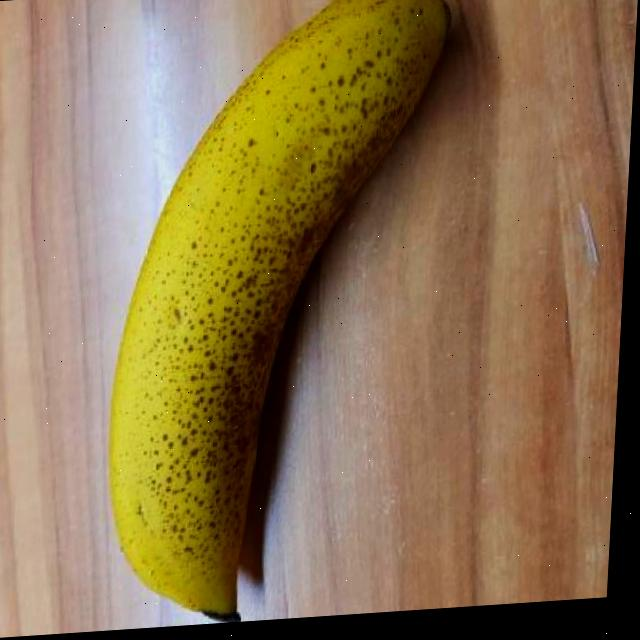banana: (101, 0, 451, 631)
